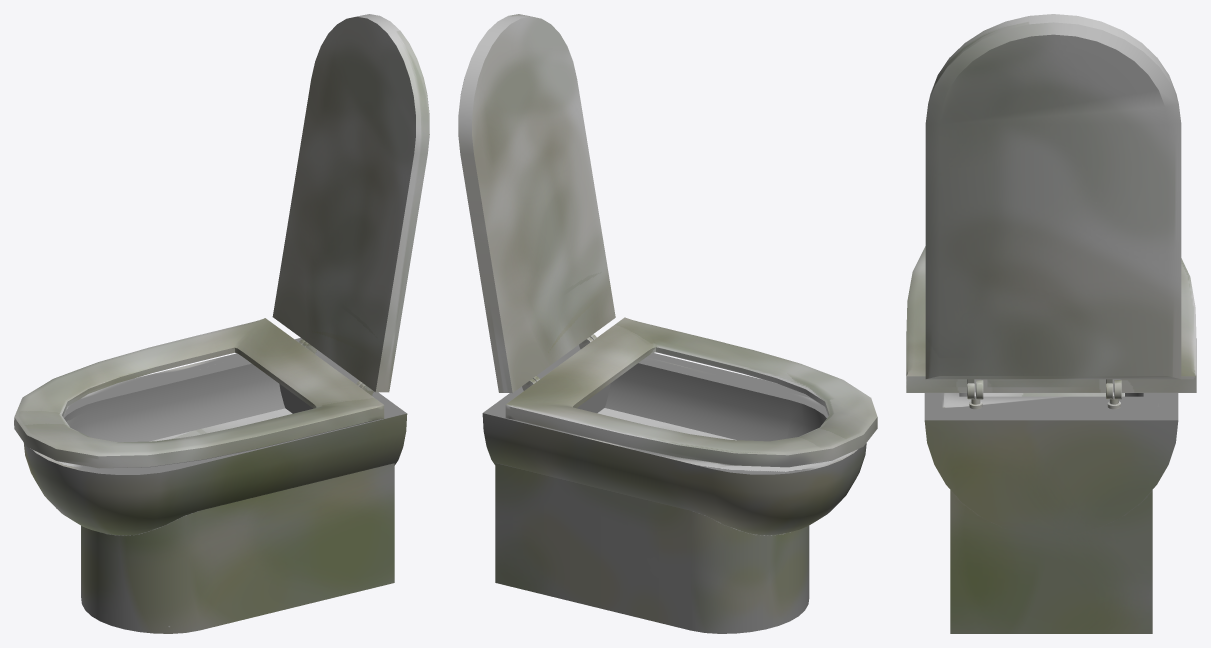
File: Gabinetto.obj
3 views of the same model, side by side, from view 1: azimuth 30°, elevation 25°; view 2: azimuth 150°, elevation 25°; view 3: azimuth 270°, elevation 25° (orthographic). The views are drawn at different scales.
Visible parts, largest first — view 1: WC; view 2: WC; view 3: WC.
Boxes of the visible parts, x1,y1,x2,y2 form: WC: (14, 14, 429, 633); WC: (458, 14, 877, 633); WC: (906, 14, 1196, 633).
Size of the model in its own units: 2.01 by 2.71 by 1.12.
Materials: 1 (1 with a texture image).
